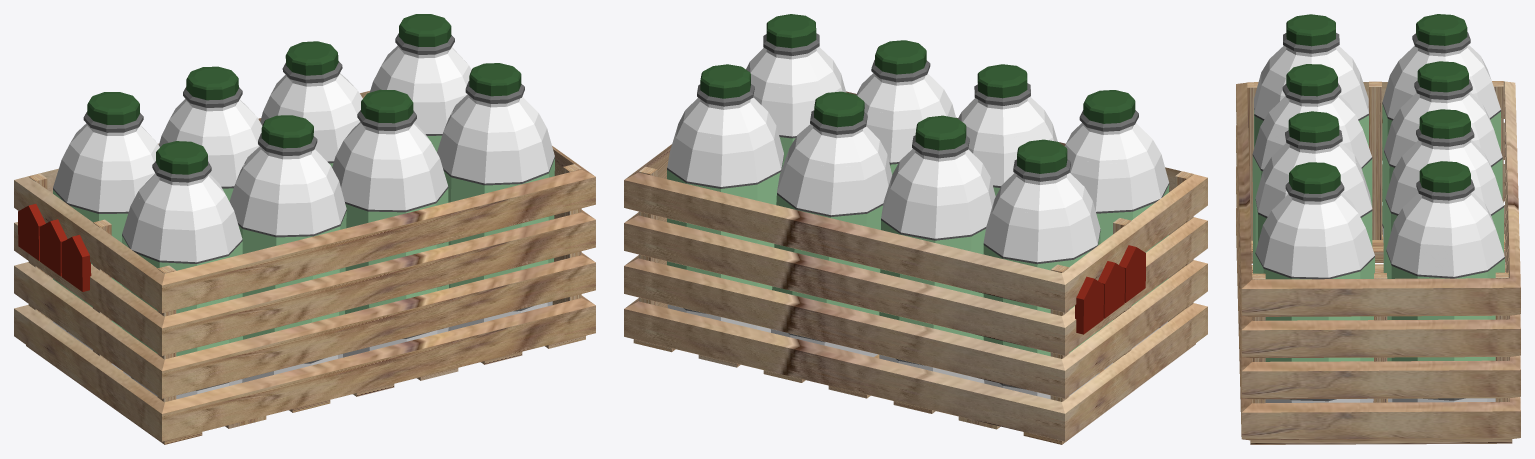
File: milk_crate_v2.gltf
3 views of the same model, side by side, from view 1: azimuth 30°, elevation 25°; view 2: azimuth 150°, elevation 25°; view 3: azimuth 270°, elevation 25° (orthographic). The views are drawn at different scales.
Parts seen in each view (by area): view 1: Crate, Milk; view 2: Crate, Milk; view 3: Milk, Crate.
Boxes of the visible parts, left/top/right/bottom form: Crate: left=14, top=91, right=595, bottom=444; Milk: left=53, top=14, right=554, bottom=399; Crate: left=624, top=91, right=1207, bottom=444; Milk: left=667, top=14, right=1169, bottom=399; Milk: left=1252, top=14, right=1504, bottom=402; Crate: left=1236, top=81, right=1520, bottom=444.
Bounding box in the file's own units: 1.37 × 0.7518 × 0.7838.
7 materials, 2 textured.
